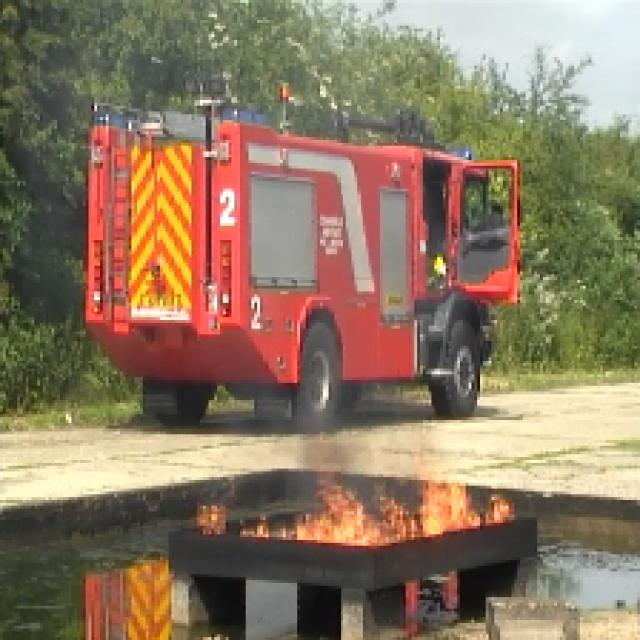fire: (306, 482, 507, 530)
